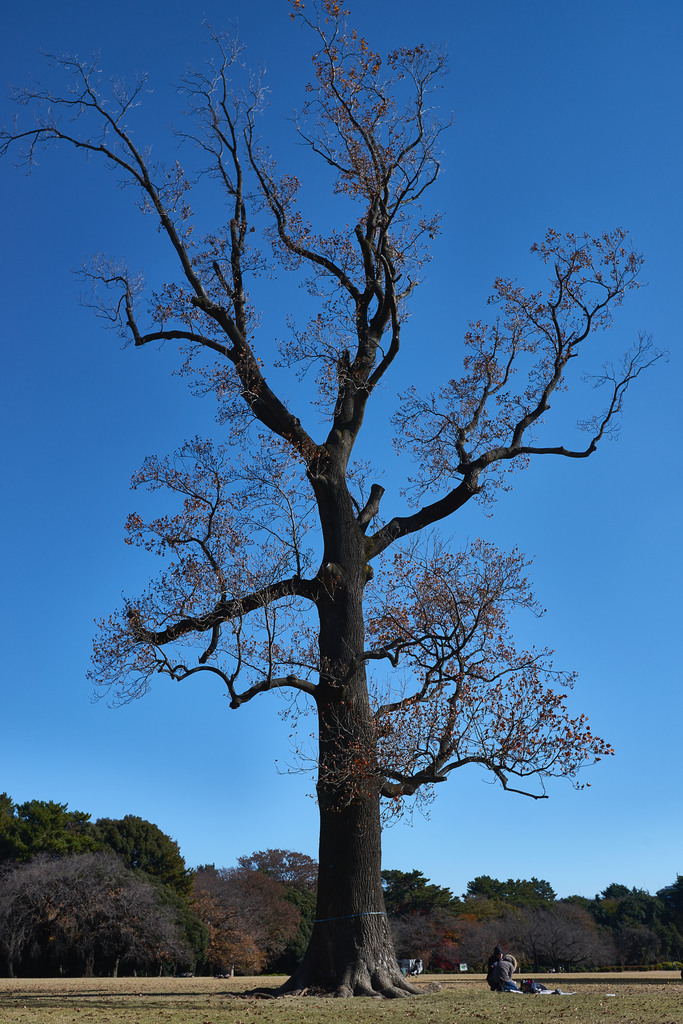Tree: (0, 0, 681, 998)
